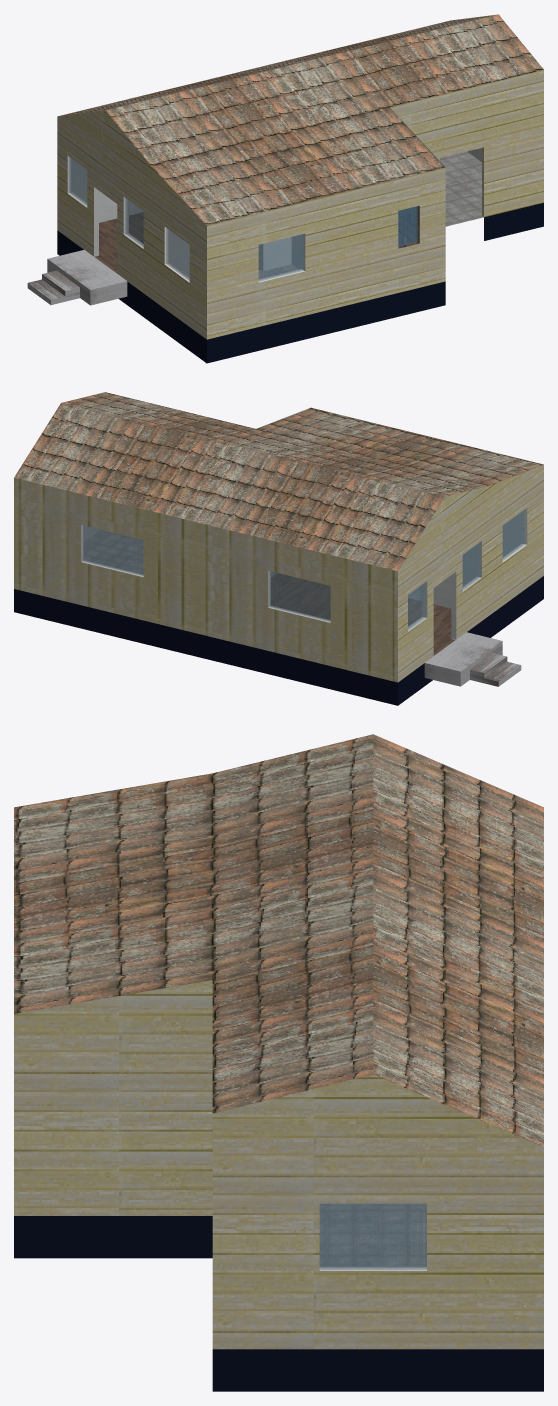
Rendered from player_house.glb.
3 renders of one model, top to bottom at view 1: azimuth 30°, elevation 25°; view 2: azimuth 150°, elevation 25°; view 3: azimuth 270°, elevation 25°, orthographic. The views are drawn at different scales.
Visible parts, largest first — view 1: ExternalWalls, Roof, Windows, Porch, KitchenFloor-col, BedroomInteriorWalls, LivingRoomFloor-col, MainInternalWalls, BathroomInteriorWalls, Doorways; view 2: ExternalWalls, Roof, Windows, Porch, LivingRoomFloor-col, KitchenFloor-col, MainInternalWalls, BedroomInteriorWalls, Doorways; view 3: Roof, ExternalWalls, Windows, KitchenFloor-col.
Part boxes in pixels (<box>): ExternalWalls: <box>57,69,543,363</box>; Roof: <box>58,14,543,225</box>; Windows: <box>67,156,419,282</box>; Porch: <box>27,249,127,305</box>; KitchenFloor-col: <box>440,151,483,226</box>; BedroomInteriorWalls: <box>170,231,301,276</box>; LivingRoomFloor-col: <box>94,212,260,273</box>; MainInternalWalls: <box>73,148,481,222</box>; BathroomInteriorWalls: <box>398,207,415,244</box>; Doorways: <box>94,147,483,270</box>; ExternalWalls: <box>14,408,543,705</box>; Roof: <box>14,392,543,571</box>; Windows: <box>81,508,527,631</box>; Porch: <box>424,632,521,686</box>; LivingRoomFloor-col: <box>271,573,455,655</box>; KitchenFloor-col: <box>84,530,276,576</box>; MainInternalWalls: <box>84,526,476,608</box>; BedroomInteriorWalls: <box>503,512,521,556</box>; Doorways: <box>451,572,456,639</box>; Roof: <box>14,734,543,1147</box>; ExternalWalls: <box>14,980,543,1391</box>; Windows: <box>319,1203,426,1270</box>; KitchenFloor-col: <box>320,1203,426,1266</box>.
Size of the model in its own units: 52.16 by 18.86 by 28.56.
Materials: 14 (12 with a texture image).
